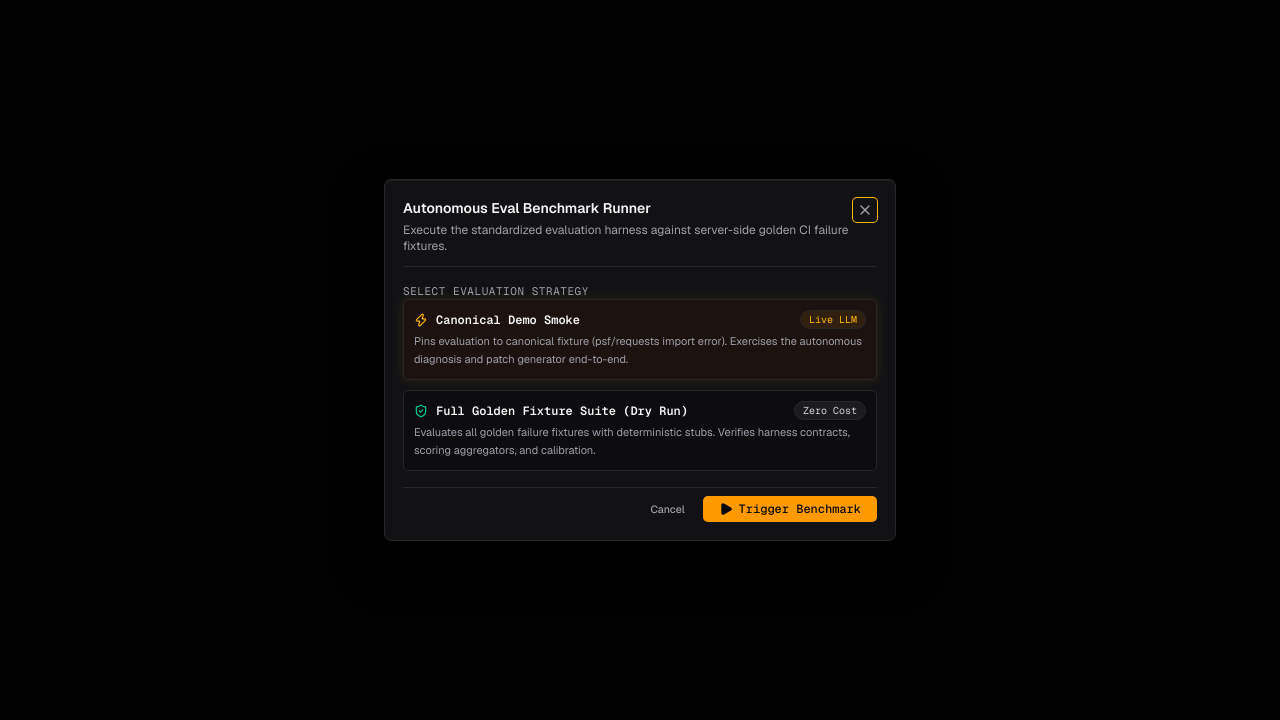
eval-benchmark-modal.tsx › displays error message if benchmark run fails
The width and height of the screenshot is (1280, 720).
Click the button "Trigger Benchmark" at (790, 509), box [703,496,877,522]
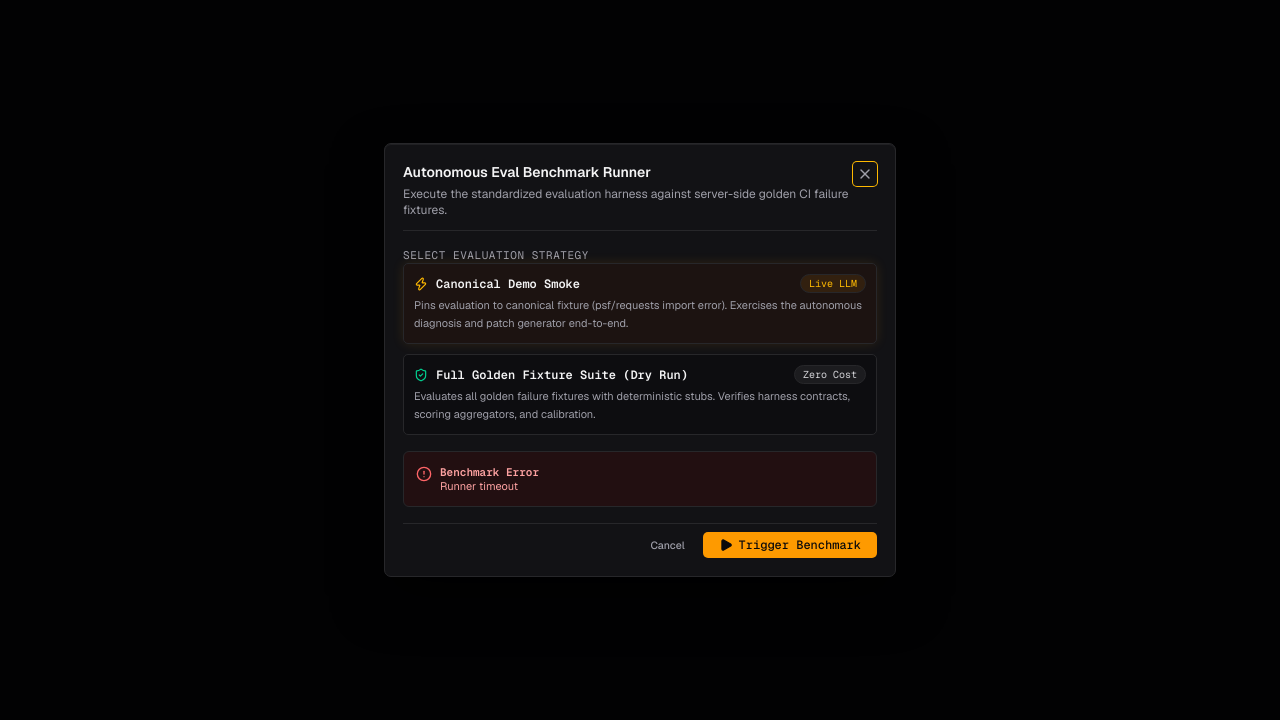
Now the text "Benchmark Error" is shown, box [440,465,539,479]
Now the text "Runner timeout" is shown, box [440,479,518,493]
